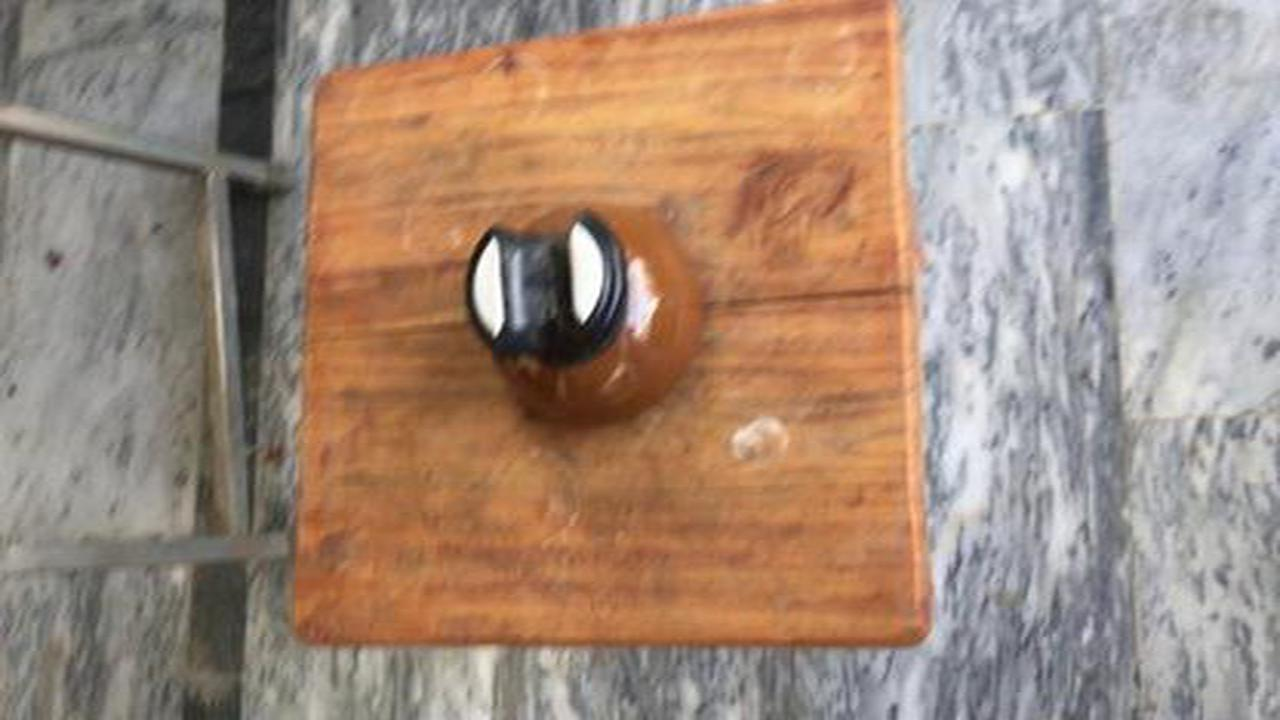insulator_pin: (444, 191, 742, 440)
